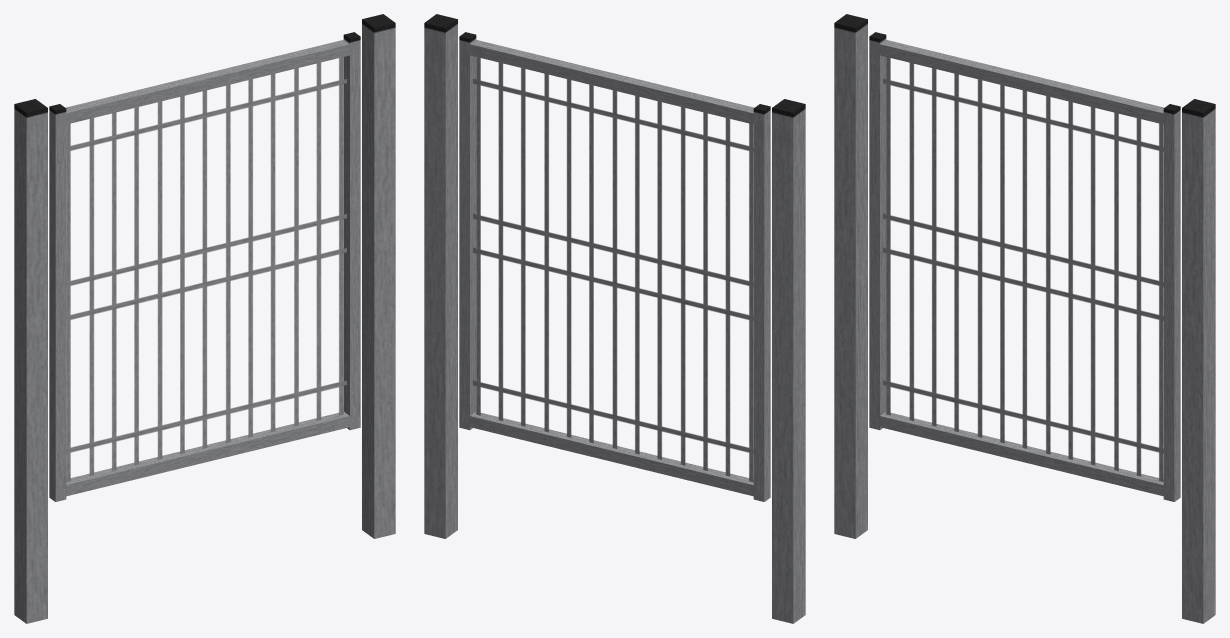
The model's file is fence-mesh-grey-gate-1m-cbj_LOD01.gltf.
The picture shows the model from 3 angles, left to right: view 1: azimuth 30°, elevation 25°; view 2: azimuth 150°, elevation 25°; view 3: azimuth 330°, elevation 25°; orthographic projection.
Parts seen in each view (by area): view 1: post.003; view 2: post.003; view 3: post.003.
Part boxes in pixels (left/top/right/bottom): post.003: left=14, top=14, right=395, bottom=623; post.003: left=424, top=14, right=805, bottom=623; post.003: left=834, top=14, right=1215, bottom=623.
Bounding box in the file's own units: 1.21 × 1.6 × 0.07.
